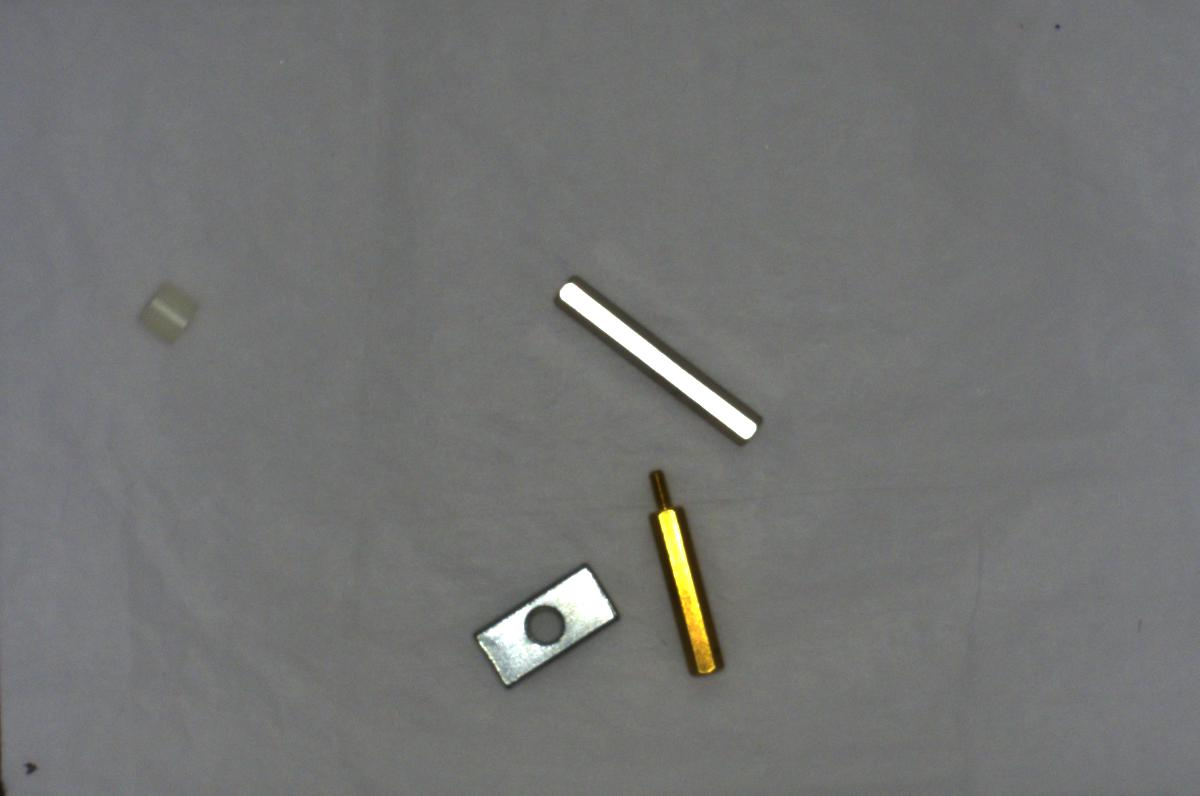Double hexagonal column: (546, 270, 767, 450)
Hexagon pillar: (639, 460, 734, 686)
Plastic cushion pillar: (130, 279, 204, 342)
Rectangular nut: (475, 559, 624, 687)
